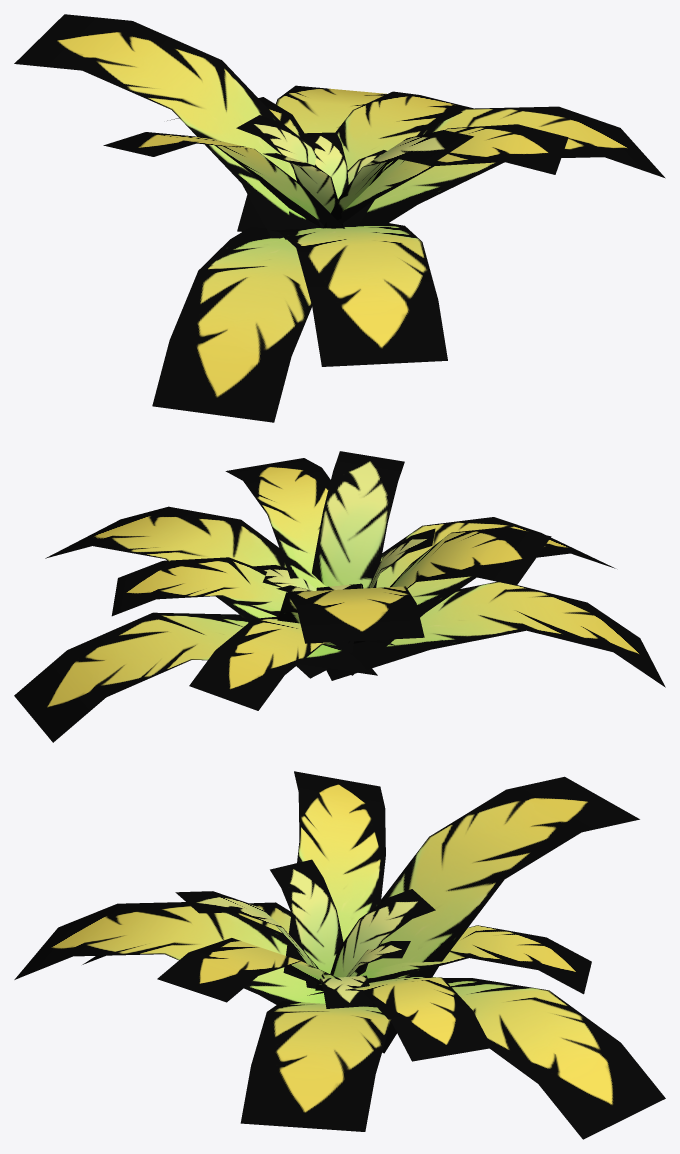
The model's file is SM_fougere_1.FBX.
3 renders of one model, top to bottom at view 1: azimuth 30°, elevation 25°; view 2: azimuth 150°, elevation 25°; view 3: azimuth 270°, elevation 25°, orthographic. The views are drawn at different scales.
Visible parts, largest first — view 1: fougere1; view 2: fougere1; view 3: fougere1.
Part boxes in pixels (<box>): fougere1: <box>14,14,665,422</box>; fougere1: <box>14,451,665,742</box>; fougere1: <box>14,771,665,1139</box>.
Bounding box in the file's own units: 1039 × 336 × 1053.
